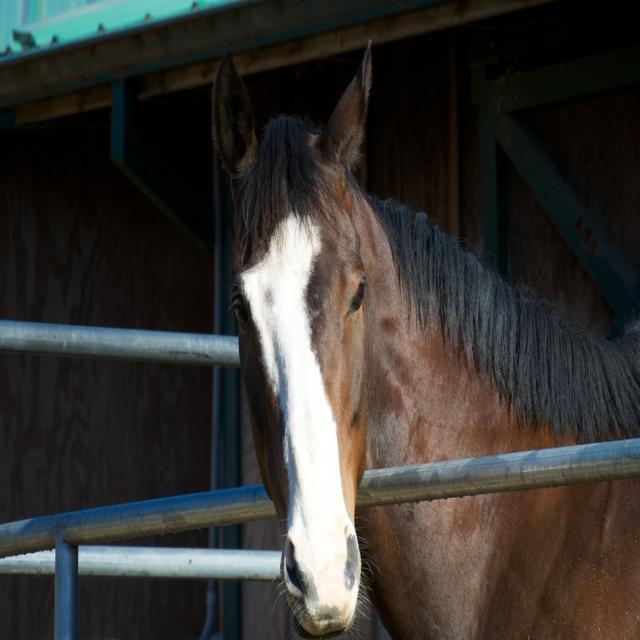Horse: (209, 37, 640, 640)
